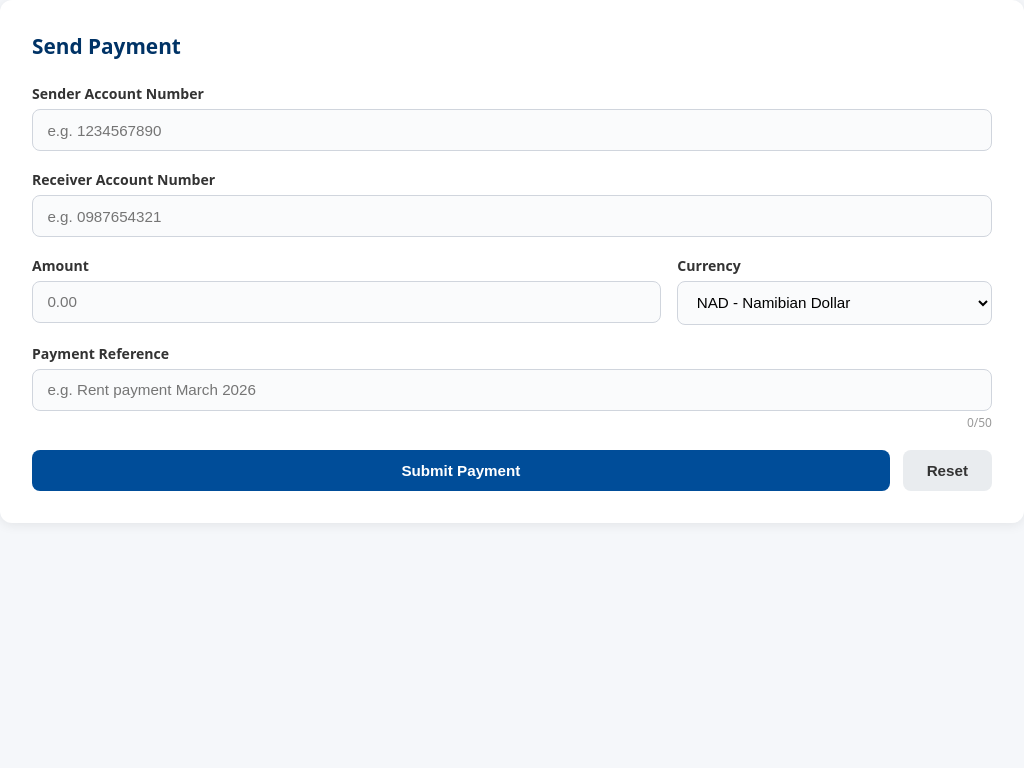
Test: PaymentForm › Validation › shows error when sender account number is empty
Click the button "Submit Payment".
click(461, 470)  # box [32,450,890,491]
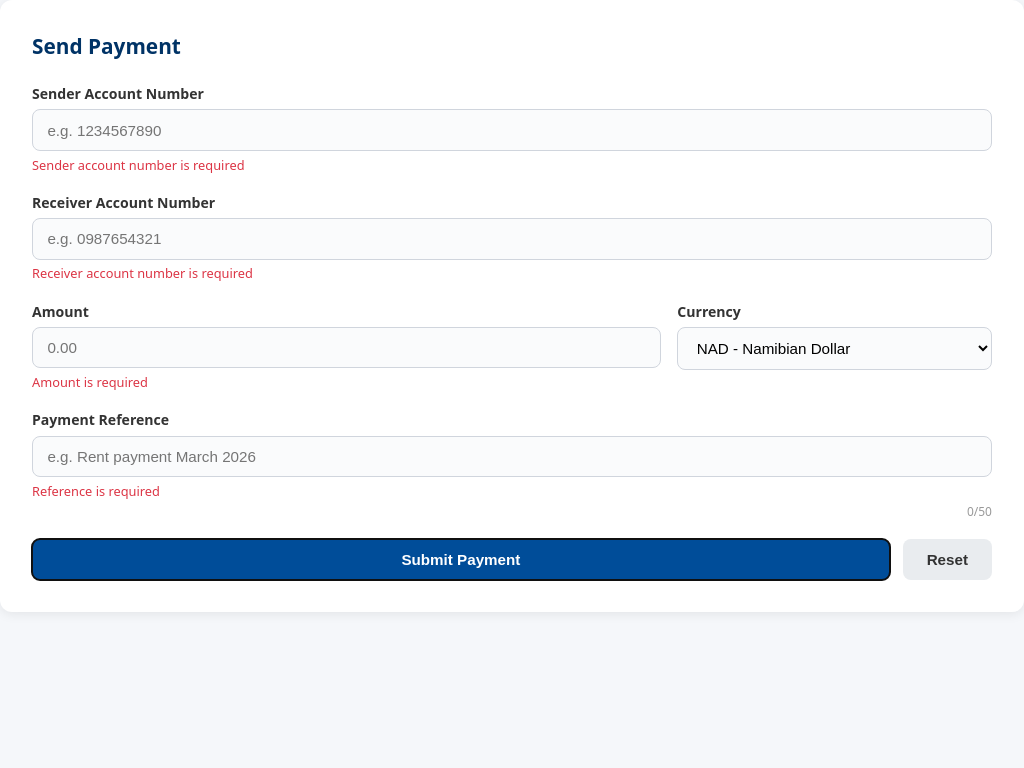
expect the text "Sender account number is required" is shown: met, box [32,156,244,174]
